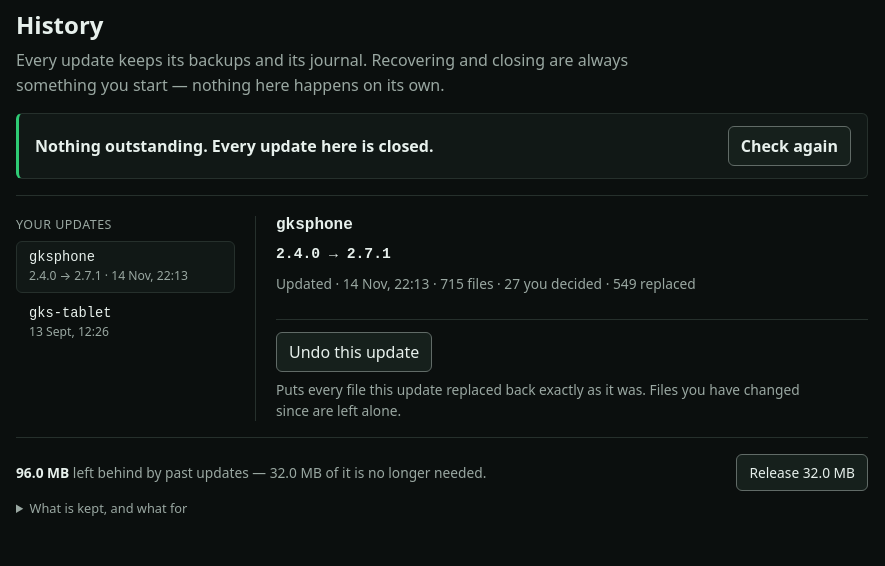
Test case: the history screen › shows the failure rather than claiming it worked
What coordinates should you click on to do the following:
click the button "Undo this update"
I would click on:
 (354, 352)
Its box is [276,332,432,372].
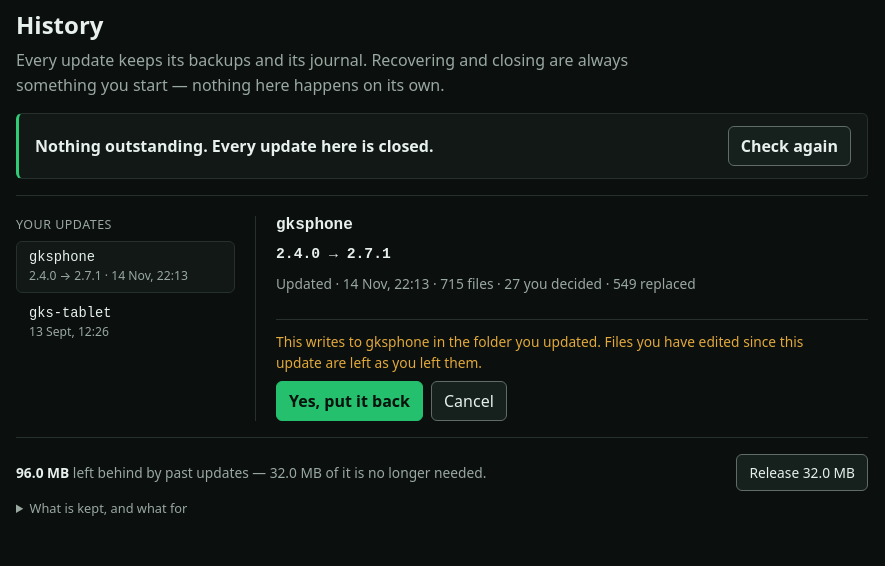
What coordinates should you click on to do the following:
click the button "Yes, put it back"
I would click on:
 (350, 401)
Its box is [276,381,423,421].
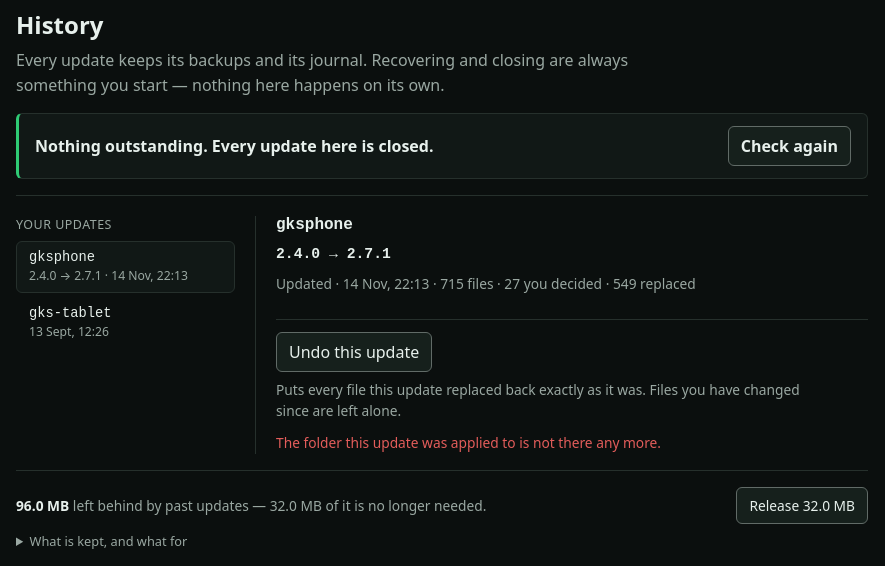
Check: the text "is not there any more" is shown, box [276,433,661,452]
